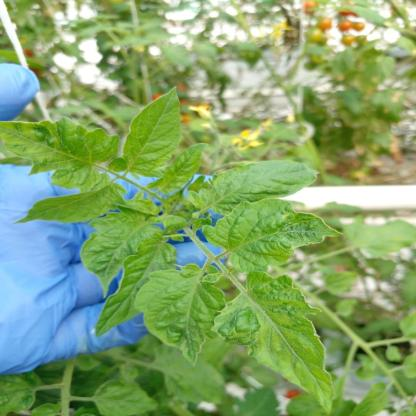T_L_H: (123, 89, 181, 177)
T_L_R: (213, 273, 334, 411), (203, 199, 340, 273), (135, 265, 226, 365), (1, 118, 119, 192), (97, 235, 178, 333), (189, 161, 318, 216), (82, 209, 164, 292), (19, 185, 127, 224), (149, 144, 208, 195)
